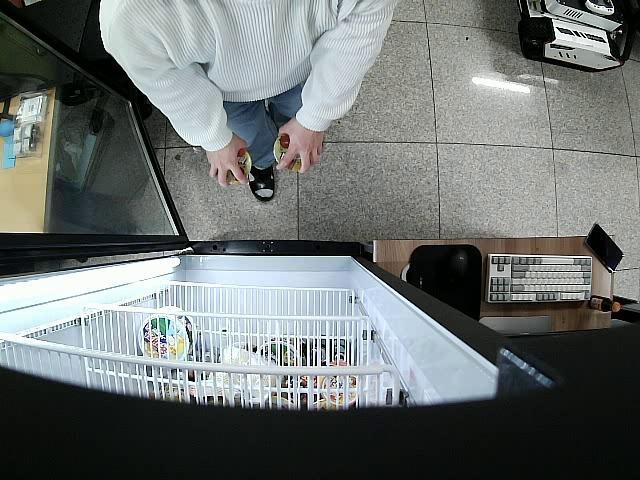04_chapagetti_S: (270, 130, 314, 175), (217, 148, 254, 188)
